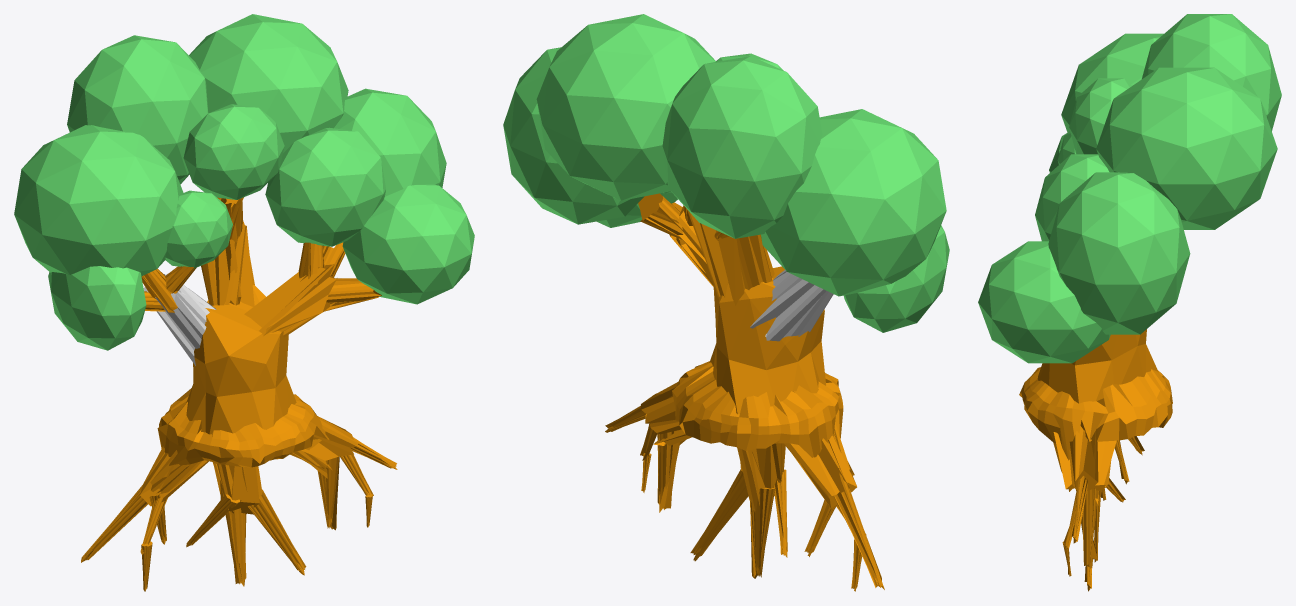
The model's file is arbol-color (1).fbx.
3 views of the same model, side by side, from view 1: azimuth 30°, elevation 25°; view 2: azimuth 150°, elevation 25°; view 3: azimuth 270°, elevation 25° (orthographic). The views are drawn at different scales.
Visible parts, largest first — view 1: Esfera geodésica.007, Esfera geodésica, Esfera geodésica.004, Esfera geodésica.006, Esfera geodésica.002, Esfera geodésica.001, Esfera geodésica.005, Esfera geodésica.003, Esfera geodésica.009, Esfera geodésica.008, Cilindro.004, Cilindro.005 (+12 smaller); view 2: Esfera geodésica.007, Esfera geodésica.006, Esfera geodésica.004, Esfera geodésica, Esfera geodésica.003, Esfera geodésica.009, Cilindro.005, Cilindro.003, Cilindro.001, Cilindro.018, Cilindro.006, Cilindro.022 (+7 smaller); view 3: Esfera geodésica.004, Esfera geodésica.003, Esfera geodésica, Esfera geodésica.002, Esfera geodésica.006, Esfera geodésica.007, Cilindro.006, Esfera geodésica.005, Esfera geodésica.001, Cilindro.025, Cilindro.027.
Boxes of the visible parts, x1,y1,x2,y2 form: Esfera geodésica.007: (14,125,183,276); Esfera geodésica: (157,285,329,467); Esfera geodésica.004: (189,14,348,152); Esfera geodésica.006: (67,35,208,184); Esfera geodésica.002: (342,184,474,304); Esfera geodésica.001: (265,127,385,246); Esfera geodésica.005: (183,104,284,199); Esfera geodésica.003: (334,88,446,196); Esfera geodésica.009: (48,266,146,350); Esfera geodésica.008: (165,190,232,268); Cilindro.004: (244,264,336,337); Cilindro.005: (201,221,254,306); Esfera geodésica.007: (761,109,946,296); Esfera geodésica.006: (662,56,822,238); Esfera geodésica.004: (536,14,716,200); Esfera geodésica: (672,266,843,457); Esfera geodésica.003: (503,47,644,224); Esfera geodésica.009: (844,225,949,332); Cilindro.005: (687,209,774,305); Cilindro.003: (750,270,833,341); Cilindro.001: (783,391,856,508); Cilindro.018: (737,443,785,512); Cilindro.006: (641,382,691,445); Cilindro.022: (749,487,775,578); Esfera geodésica.004: (1096,67,1277,229); Esfera geodésica.003: (1048,172,1190,334); Esfera geodésica: (1019,329,1172,460); Esfera geodésica.002: (978,241,1110,363); Esfera geodésica.006: (1142,14,1281,131); Esfera geodésica.007: (1061,33,1163,132); Cilindro.006: (1053,401,1116,505); Esfera geodésica.005: (1069,78,1131,154); Esfera geodésica.001: (1035,154,1109,241); Cilindro.025: (1076,488,1098,567); Cilindro.027: (1071,476,1087,543).
Size of the model in its own units: 36769 by 46684 by 24508.
